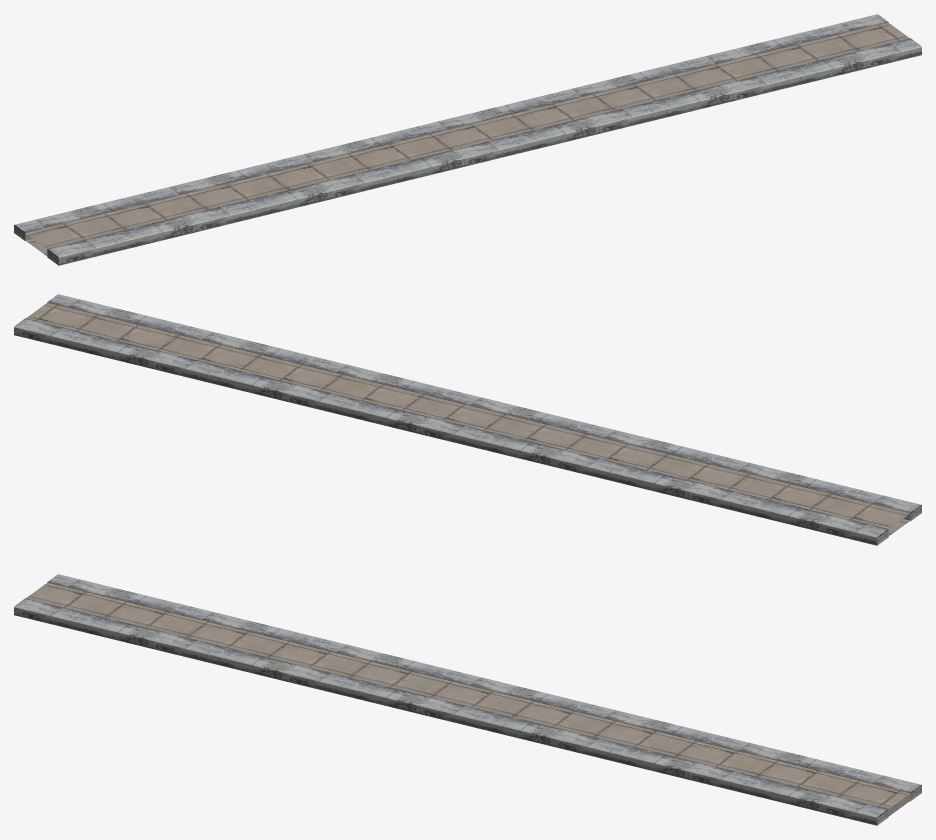
File: Area1FoundationDivider.fbx
The picture shows the model from 3 angles, top to bottom: view 1: azimuth 30°, elevation 25°; view 2: azimuth 150°, elevation 25°; view 3: azimuth 330°, elevation 25°; orthographic projection.
Parts seen in each view (by area): view 1: Area1RoadDivider; view 2: Area1RoadDivider; view 3: Area1RoadDivider.
Boxes of the visible parts, <box> form: Area1RoadDivider: <box>14,14,921,265</box>; Area1RoadDivider: <box>14,294,921,545</box>; Area1RoadDivider: <box>14,574,921,825</box>.
Size of the model in its own units: 166 by 1.6 by 14.95.
